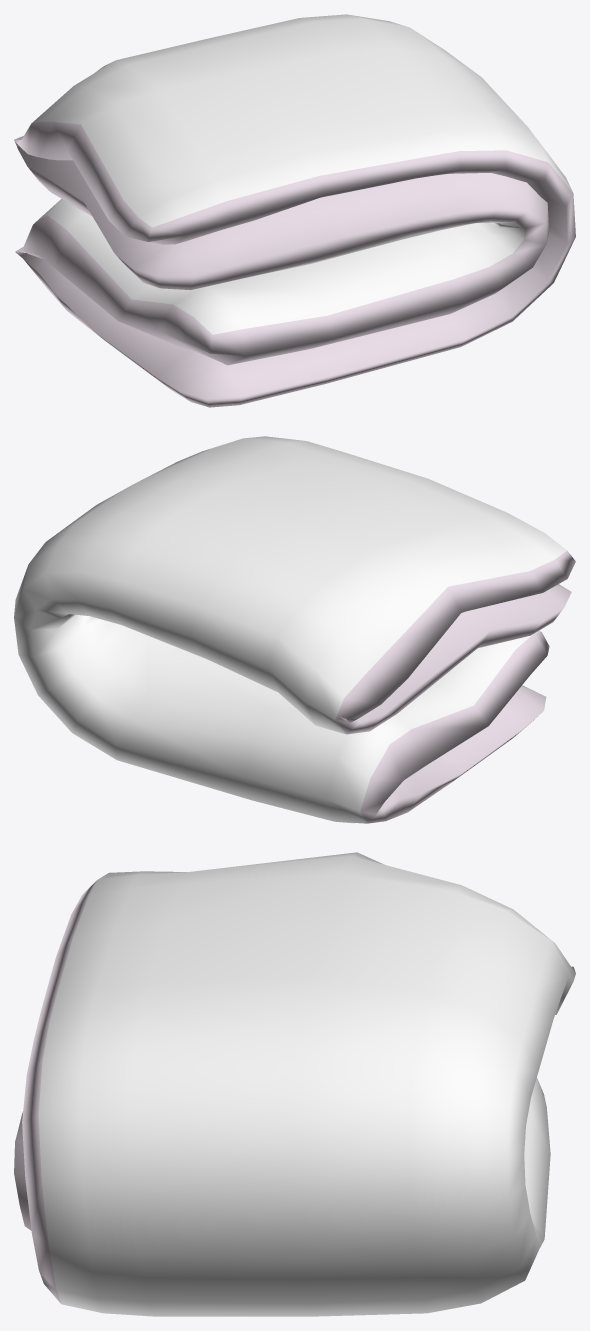
File: Cloth.fbx
3 views of the same model, one above another, from view 1: azimuth 30°, elevation 25°; view 2: azimuth 150°, elevation 25°; view 3: azimuth 270°, elevation 25° (orthographic). The views are drawn at different scales.
Parts seen in each view (by area): view 1: Cloth1; view 2: Cloth1; view 3: Cloth1.
Boxes of the visible parts, <box> form: Cloth1: <box>14,14,575,407</box>; Cloth1: <box>14,436,575,823</box>; Cloth1: <box>14,852,575,1316</box>.
Size of the model in its own units: 65.63 by 34.81 by 56.11.
1 material, 1 textured.
